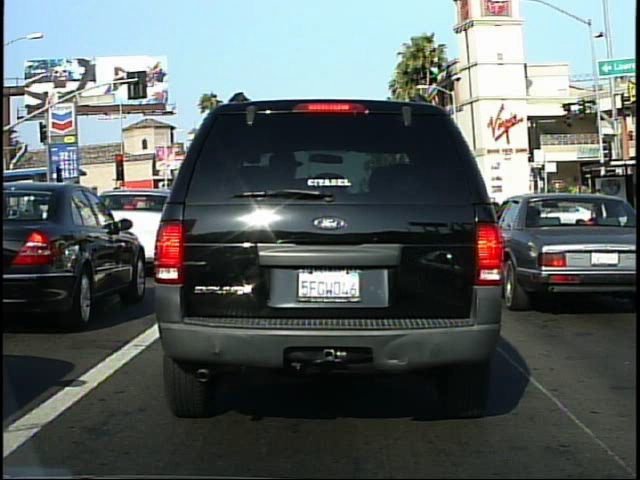person: (590, 184, 614, 250)
